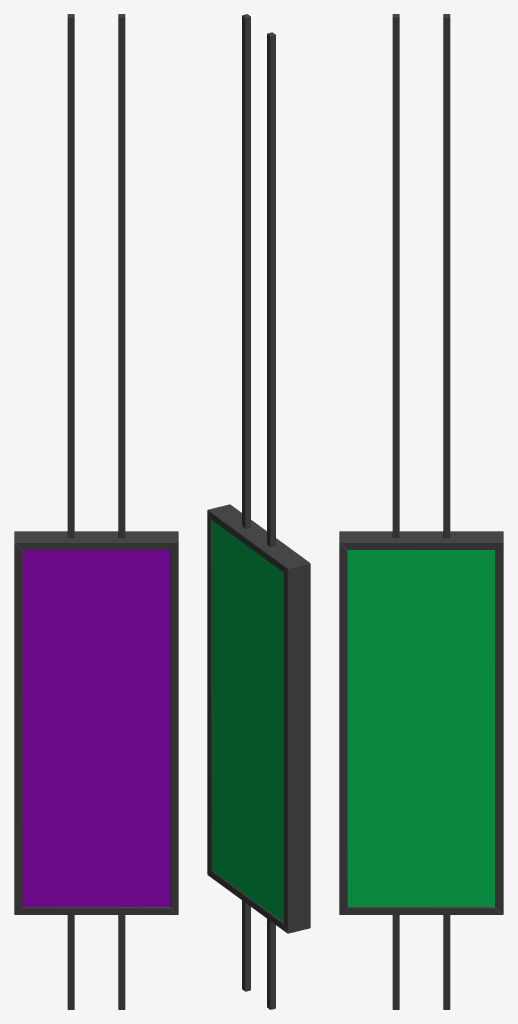
The model's file is SM_banner_1.fbx.
3 renders of one model, left to right at view 1: azimuth 90°, elevation 25°; view 2: azimuth 210°, elevation 25°; view 3: azimuth 270°, elevation 25°, orthographic.
Visible parts, largest first — view 1: SM_banner_1; view 2: SM_banner_1; view 3: SM_banner_1.
Part boxes in pixels (box(x1,y1,x2,y2)): SM_banner_1: box(14, 14, 178, 1009); SM_banner_1: box(207, 14, 310, 1009); SM_banner_1: box(339, 14, 503, 1009).
Size of the model in its own units: 10 by 400 by 60.
